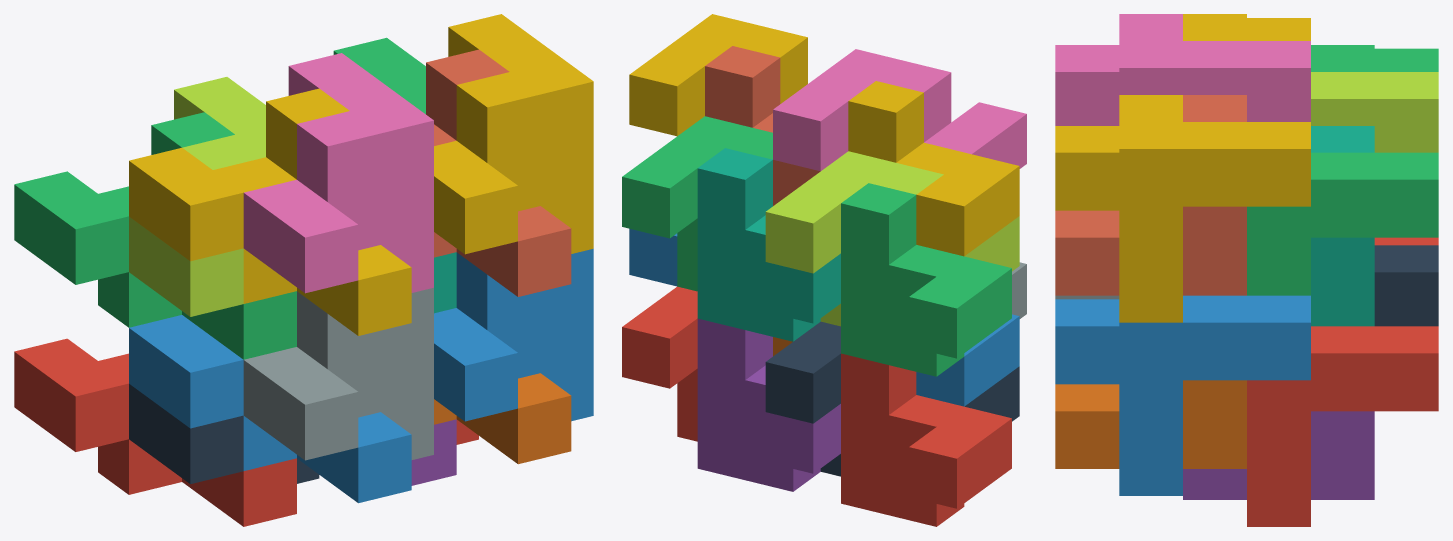
Rendered from tiling.obj.
3 renders of one model, left to right at view 1: azimuth 30°, elevation 25°; view 2: azimuth 150°, elevation 25°; view 3: azimuth 270°, elevation 25°, orthographic. The views are drawn at different scales.
Visible parts, largest first — view 1: copy_2_domain_4, copy_2_domain_8, copy_1_domain_4, copy_2_domain_2, copy_1_domain_3, copy_2_domain_6, copy_1_domain_1, copy_1_domain_2, copy_2_domain_3, copy_1_domain_8, copy_2_domain_1, copy_1_domain_6 (+3 smaller); view 2: copy_1_domain_3, copy_1_domain_1, copy_1_domain_7, copy_1_domain_5, copy_2_domain_4, copy_1_domain_4, copy_2_domain_3, copy_2_domain_8, copy_2_domain_7, copy_2_domain_1, copy_2_domain_5, copy_1_domain_8 (+3 smaller); view 3: copy_2_domain_8, copy_2_domain_6, copy_2_domain_5, copy_2_domain_4, copy_2_domain_7, copy_1_domain_8, copy_1_domain_6, copy_2_domain_3, copy_1_domain_5, copy_1_domain_7, copy_2_domain_1, copy_1_domain_3 (+2 smaller).
Part boxes in pixels (x1,y1,x2,y2): copy_2_domain_4: (243,53,433,293); copy_2_domain_8: (434,14,593,254); copy_1_domain_4: (129,88,411,335); copy_2_domain_2: (243,287,433,460); copy_1_domain_3: (14,112,296,359); copy_2_domain_6: (434,248,593,421); copy_1_domain_1: (14,338,296,526); copy_1_domain_2: (129,315,411,503); copy_2_domain_3: (129,77,265,316); copy_1_domain_8: (426,49,571,296); copy_2_domain_1: (129,384,319,483); copy_1_domain_6: (434,373,571,464); copy_1_domain_3: (841,183,1011,376); copy_1_domain_1: (841,353,1011,526); copy_1_domain_7: (697,148,840,341); copy_1_domain_5: (697,318,840,491); copy_2_domain_4: (773,49,1026,171); copy_1_domain_4: (848,81,1019,256); copy_2_domain_3: (765,151,1019,326); copy_2_domain_8: (629,14,807,136); copy_2_domain_7: (622,116,772,291); copy_2_domain_1: (765,321,1019,476); copy_2_domain_5: (622,286,697,441); copy_1_domain_8: (705,46,820,205); copy_2_domain_8: (1055,95,1310,322); copy_2_domain_6: (1055,295,1310,495); copy_2_domain_5: (1247,326,1438,526); copy_2_domain_4: (1055,14,1310,125); copy_2_domain_7: (1247,152,1438,295); copy_1_domain_8: (1055,95,1246,295); copy_1_domain_6: (1055,380,1246,468); copy_2_domain_3: (1311,72,1438,152); copy_1_domain_5: (1183,411,1374,499); copy_1_domain_7: (1311,126,1374,326); copy_2_domain_1: (1374,245,1438,326); copy_1_domain_3: (1311,45,1438,71).
Size of the model in its own units: 8 by 7 by 6.
